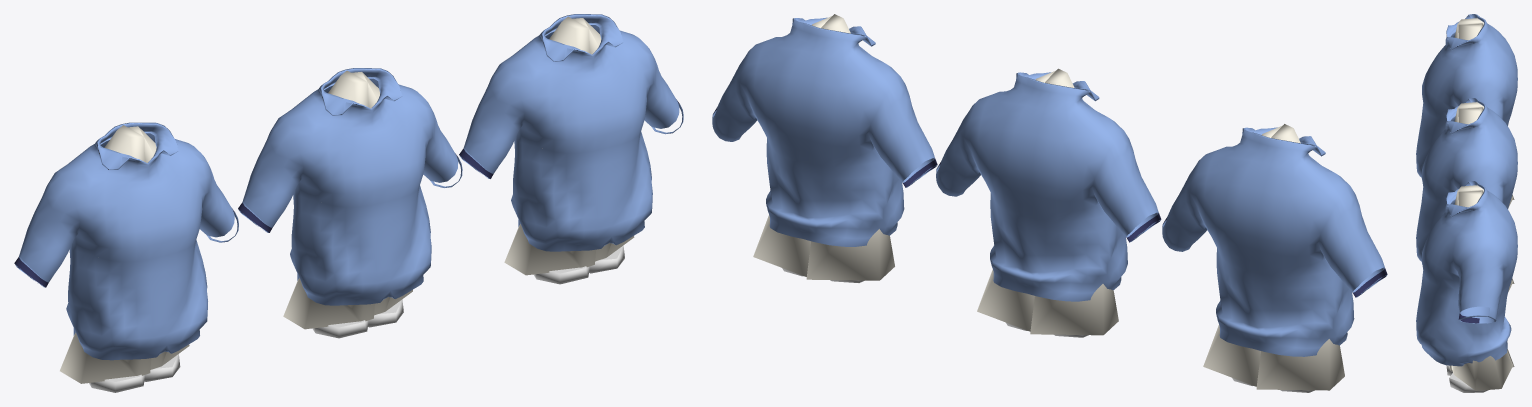
File: Baju manekin.fbx
3 views of the same model, side by side, from view 1: azimuth 30°, elevation 25°; view 2: azimuth 150°, elevation 25°; view 3: azimuth 270°, elevation 25° (orthographic). The views are drawn at different scales.
Visible parts, largest first — view 1: defaultMaterial.002; view 2: defaultMaterial.002; view 3: defaultMaterial.002.
Part boxes in pixels (bbox=[...]): defaultMaterial.002: bbox=[14, 14, 683, 392]; defaultMaterial.002: bbox=[712, 14, 1387, 392]; defaultMaterial.002: bbox=[1416, 14, 1517, 392].
Size of the model in its own units: 166 by 58.41 by 28.77.
